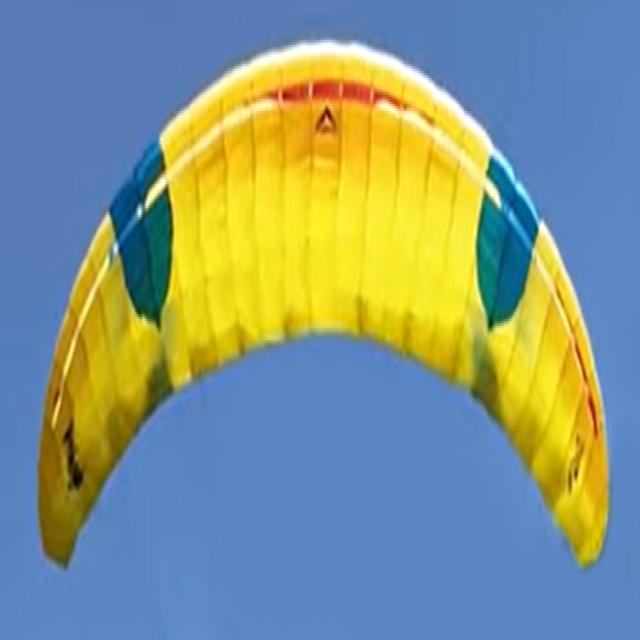paraglider: (36, 35, 611, 574)
